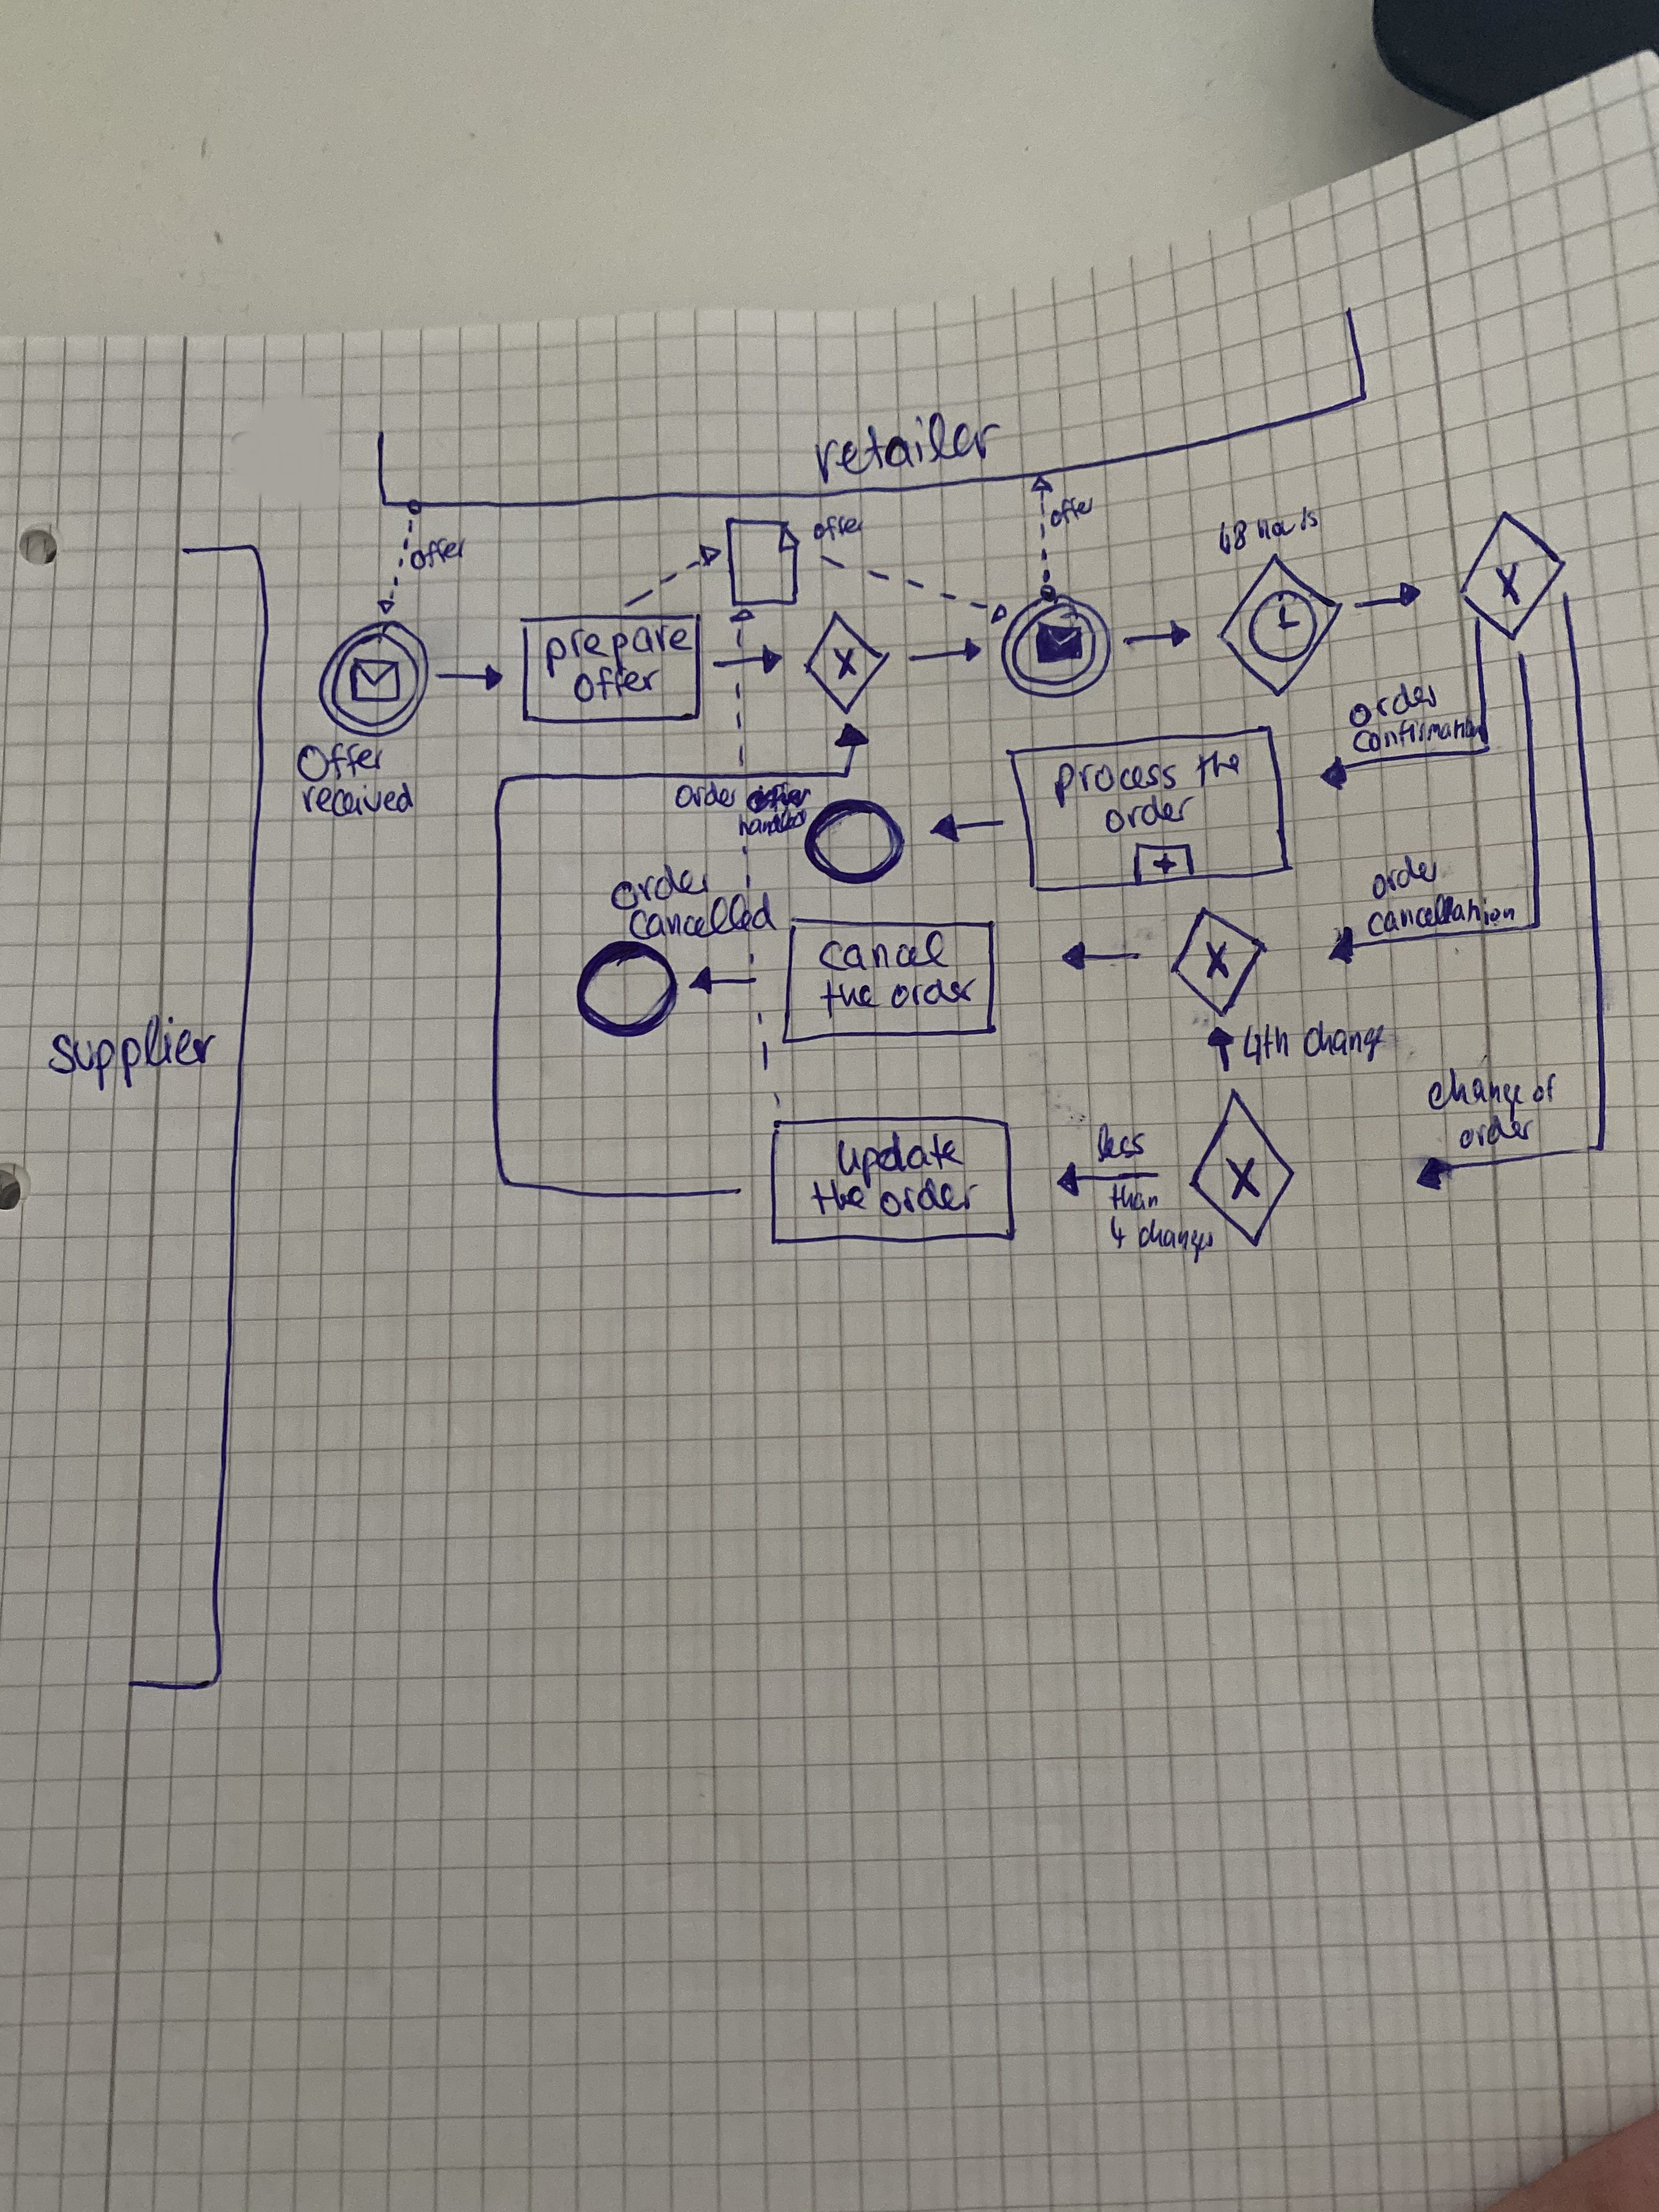4: (1103, 1214, 1129, 1251)
48hours: (1213, 507, 1317, 559)
4th: (1237, 1022, 1298, 1071)
Offer: (296, 732, 387, 782), (572, 662, 664, 704)
cancel: (814, 925, 945, 970)
cancellation: (1358, 892, 1511, 934)
cancelled: (631, 907, 775, 932)
change: (1419, 1071, 1523, 1113), (1307, 1024, 1371, 1062)
changes: (1140, 1219, 1209, 1258)
confirmation: (1347, 709, 1478, 759)
handled: (735, 812, 807, 831)
less: (1107, 1122, 1150, 1162)
of: (1527, 1075, 1556, 1103)
offer: (406, 533, 467, 575), (809, 510, 863, 550), (1047, 495, 1096, 529)
order: (603, 864, 714, 913), (1101, 786, 1195, 843), (1347, 855, 1459, 900), (1344, 678, 1441, 726), (887, 968, 978, 1015), (1452, 1111, 1541, 1155), (667, 775, 739, 810), (894, 1179, 960, 1214)
prepare: (540, 624, 687, 669)
process: (1047, 754, 1185, 801)
received: (308, 773, 410, 824)
retailer: (809, 404, 1002, 486)
supplier: (42, 1017, 218, 1089)
than: (1112, 1177, 1150, 1217)
the: (1173, 745, 1258, 791), (824, 972, 875, 1021), (809, 1179, 870, 1216)
update: (849, 1134, 955, 1177)
